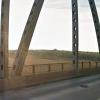Bridge: (5, 3, 98, 77)
